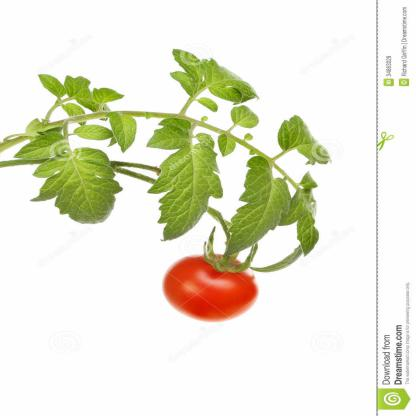tomato leaf: (143, 108, 233, 247), (23, 137, 131, 240), (229, 137, 307, 278), (107, 108, 141, 155)
